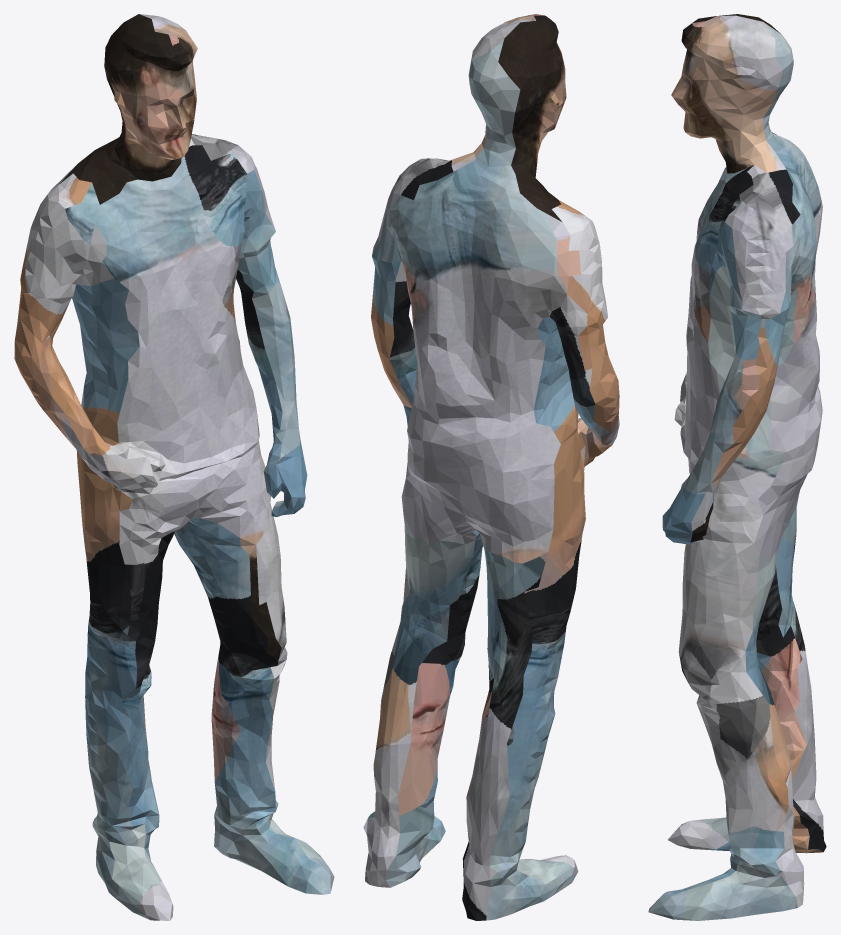
The model's file is man_9.glb.
3 views of the same model, side by side, from view 1: azimuth 30°, elevation 25°; view 2: azimuth 150°, elevation 25°; view 3: azimuth 270°, elevation 25° (orthographic). The views are drawn at different scales.
Visible parts, largest first — view 1: man_9; view 2: man_9; view 3: man_9.
Boxes of the visible parts, <box> form: man_9: <box>14,14,334,920</box>; man_9: <box>363,14,619,920</box>; man_9: <box>648,14,826,920</box>.
Bounding box in the file's own units: 0.5133 × 1.62 × 0.3138.
1 material, 1 textured.
